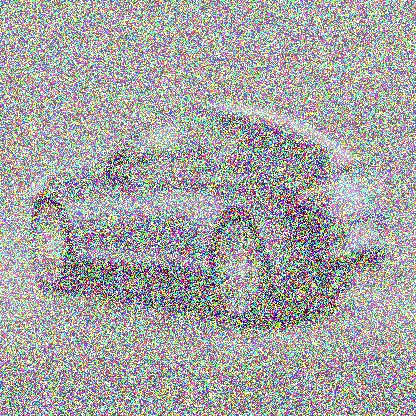Vehicle: (25, 100, 394, 338)
